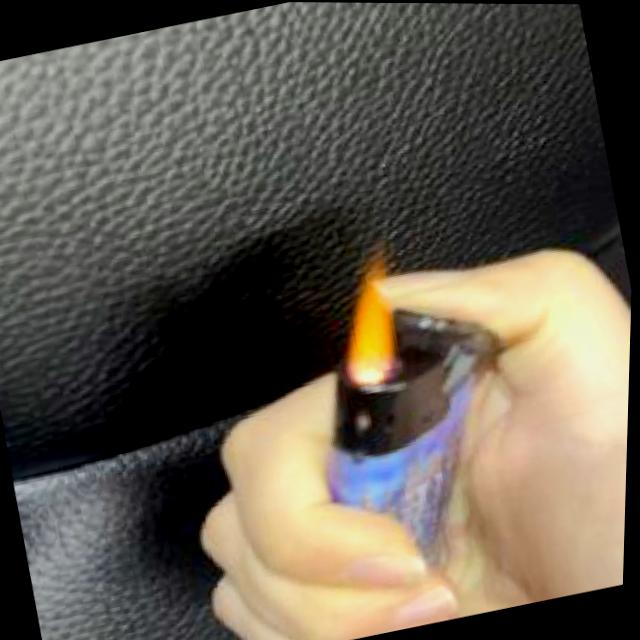fire: (292, 225, 472, 400), (328, 249, 418, 388)
